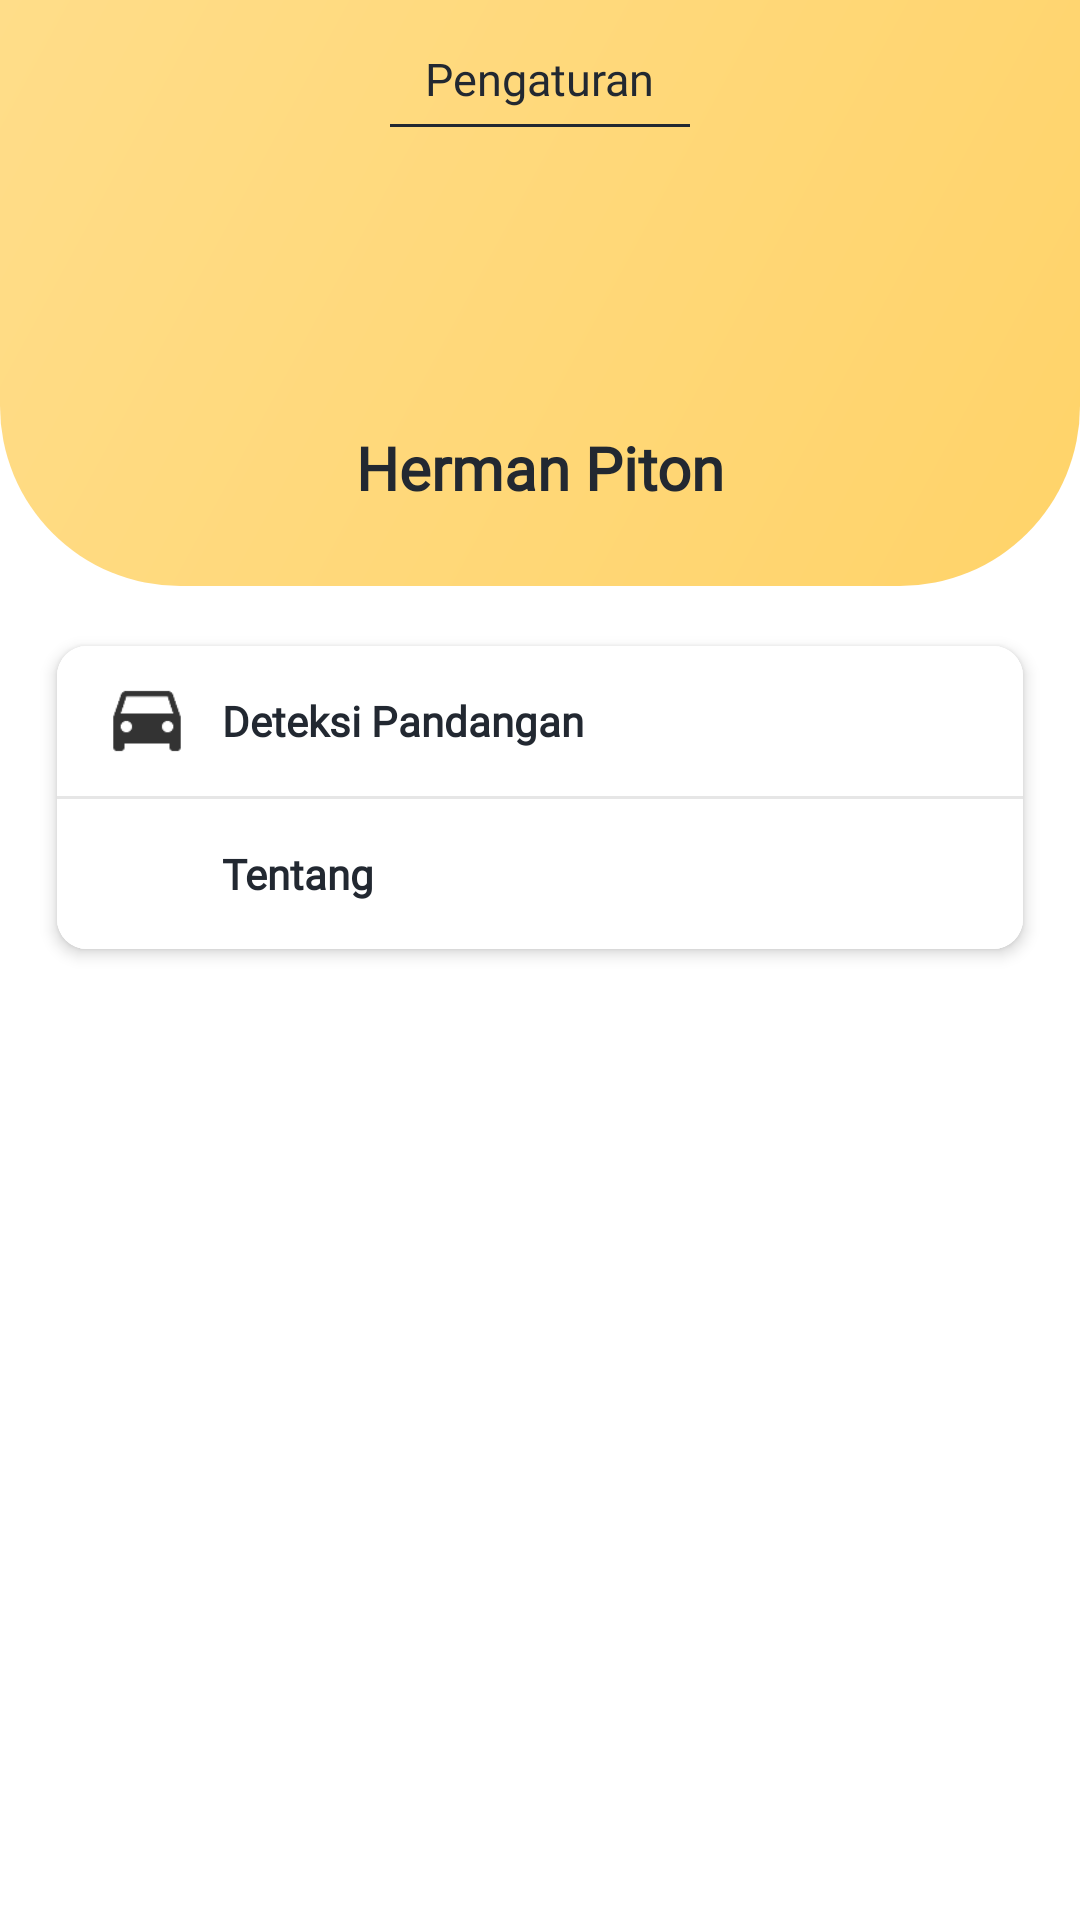

Named icons in this screenshot (1080×1920) and their centers, (x=x, y=y):
mobil: (x=147, y=721)
